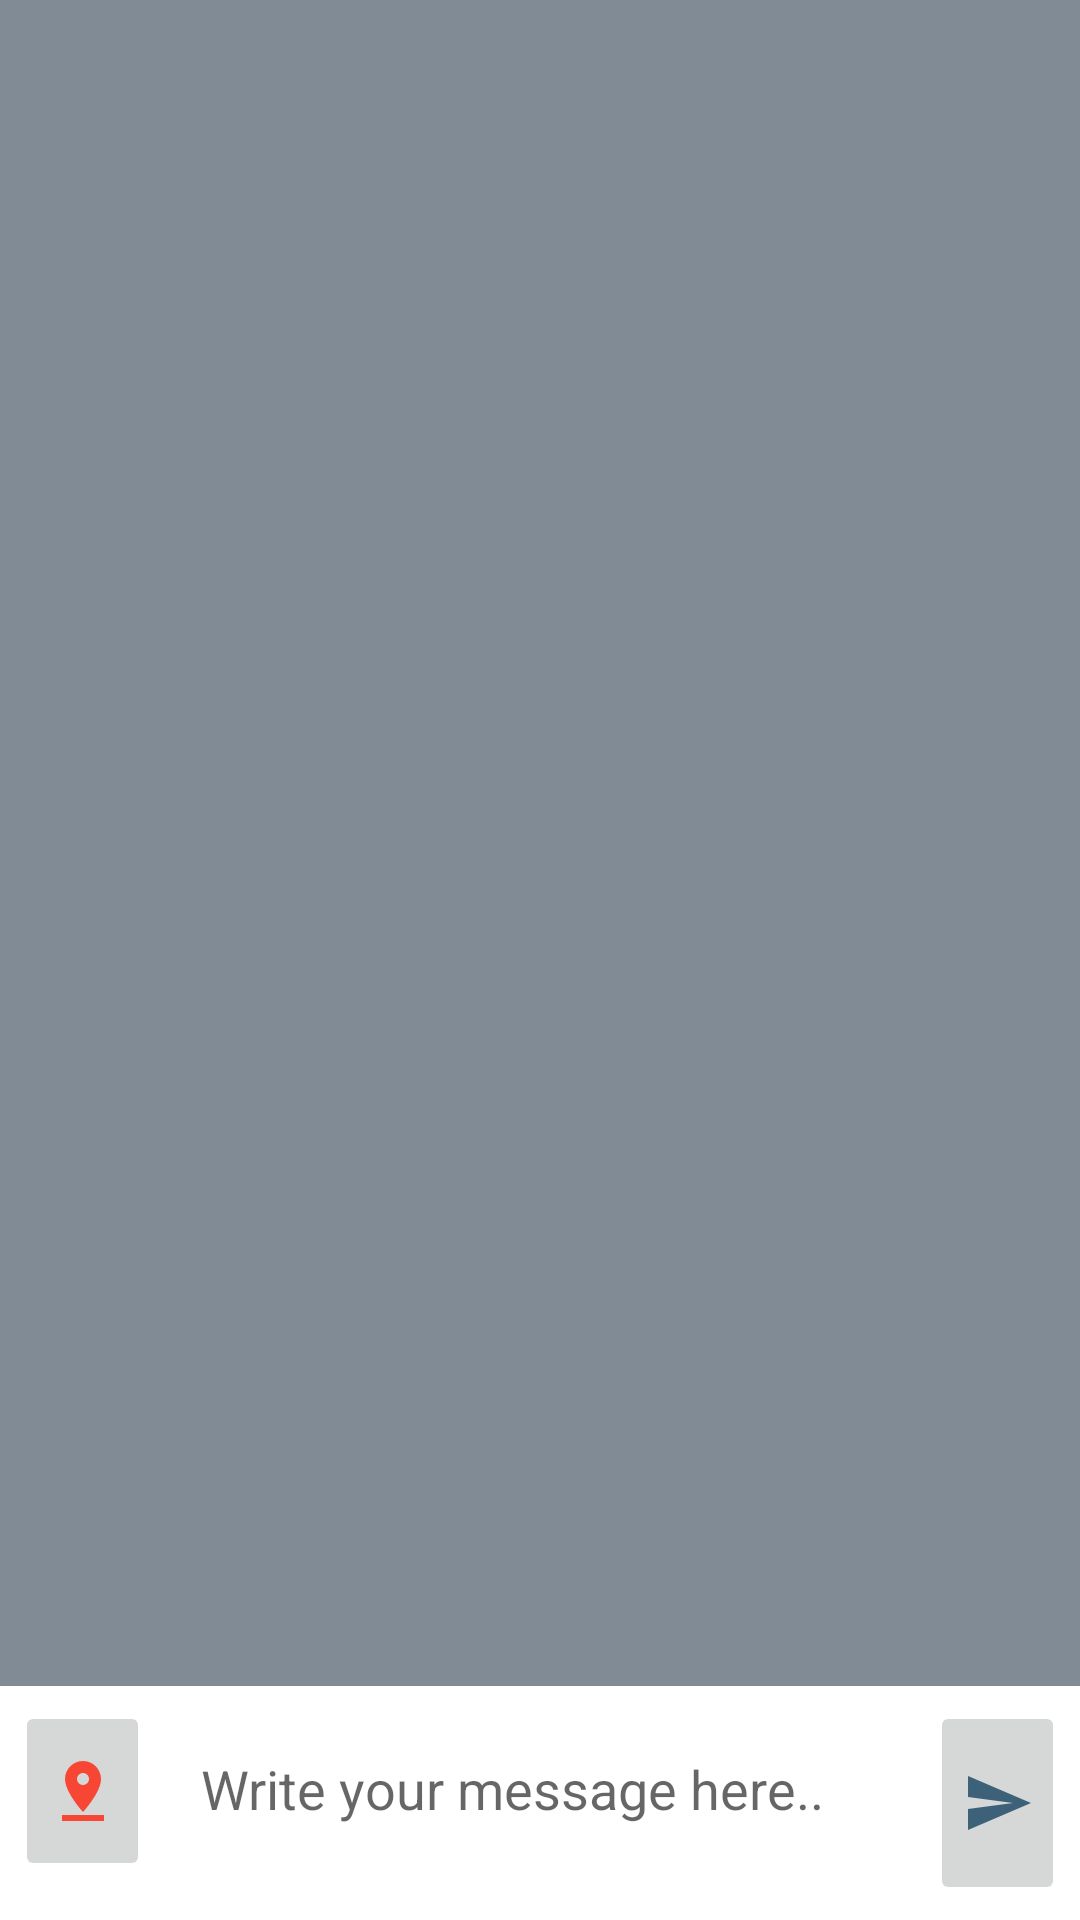

Where icons sit on this 1080*1920 app screen, as [x1,y1,x2,y2]:
google maps: [27,1719,138,1863]
send message: [942,1719,1053,1887]
